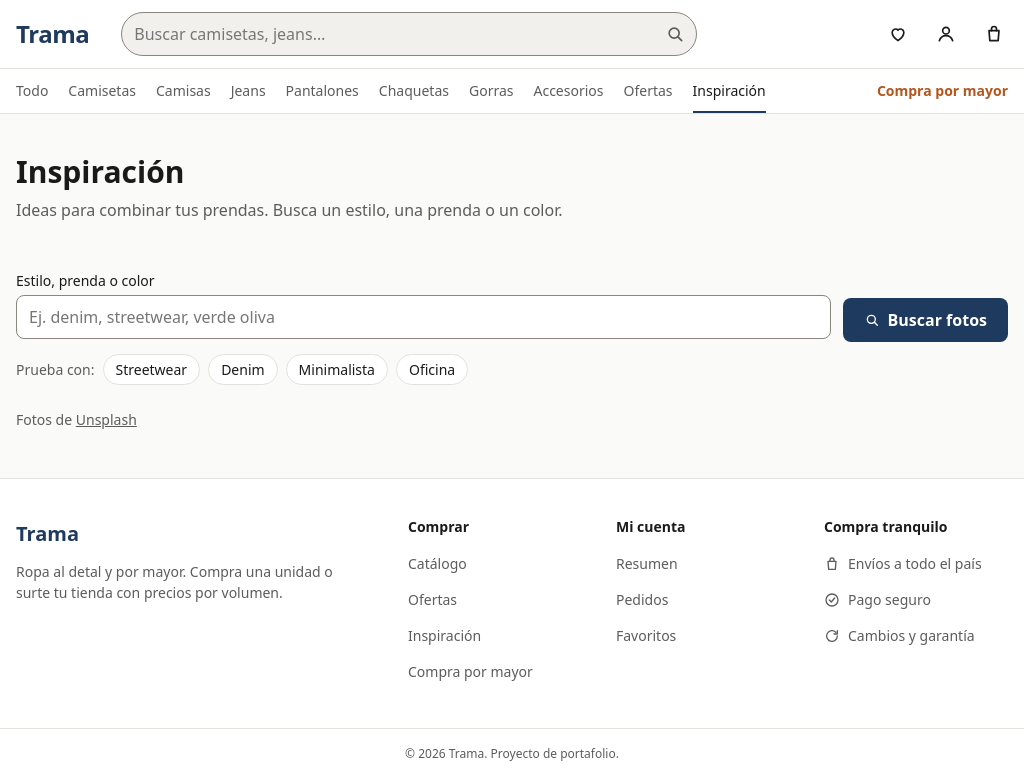
Inspiración (Unsplash) › sin resultados muestra "No se ha encontrado nada"
Type "zzzz" into the search field labelled "Estilo, prenda o color" at (423, 317), box [16,295,831,339]
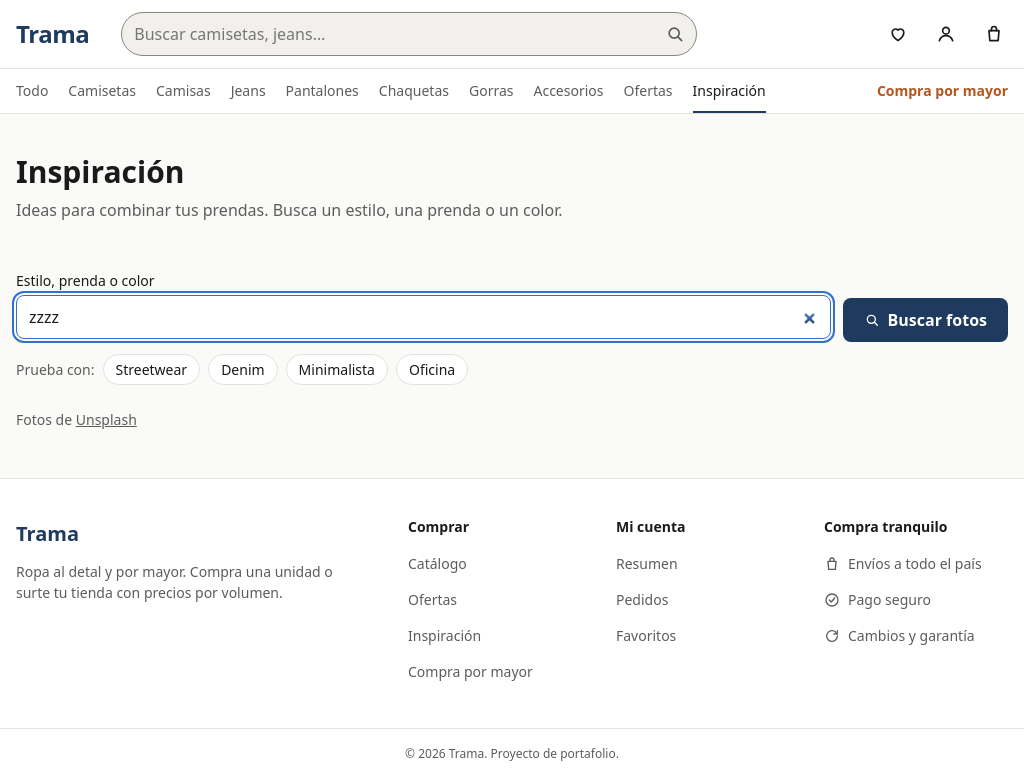
Click the button "Buscar fotos" at (925, 320), box [843,298,1008,342]
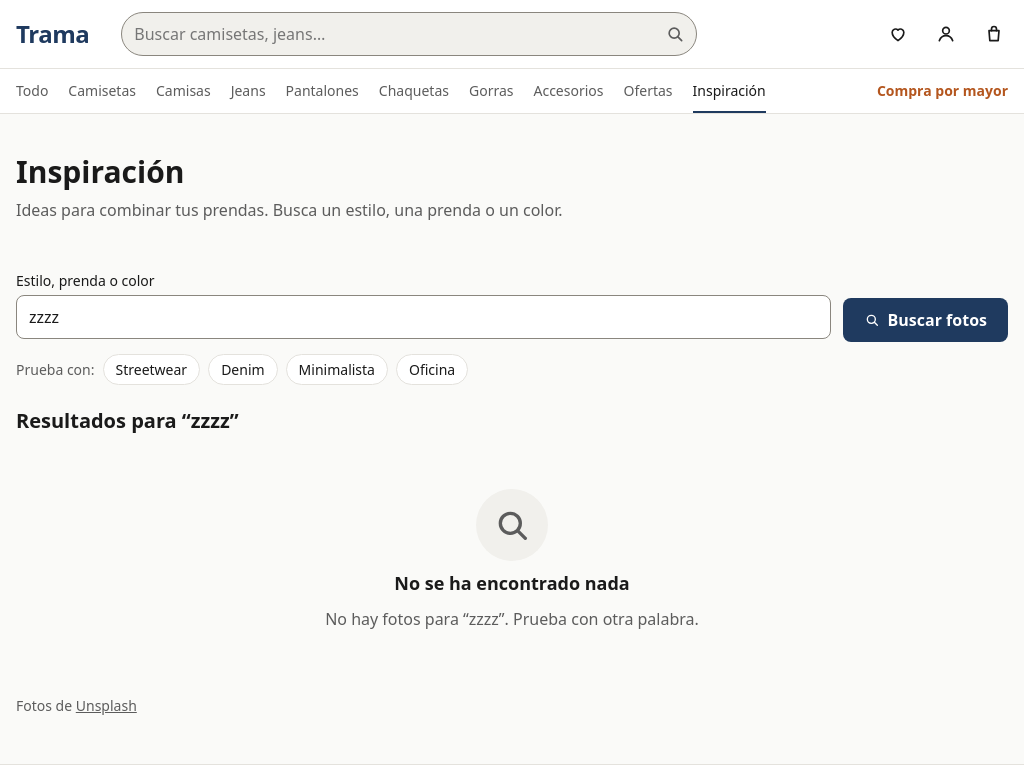
Check: the heading "No se ha encontrado nada" is shown, box [394,573,630,595]
